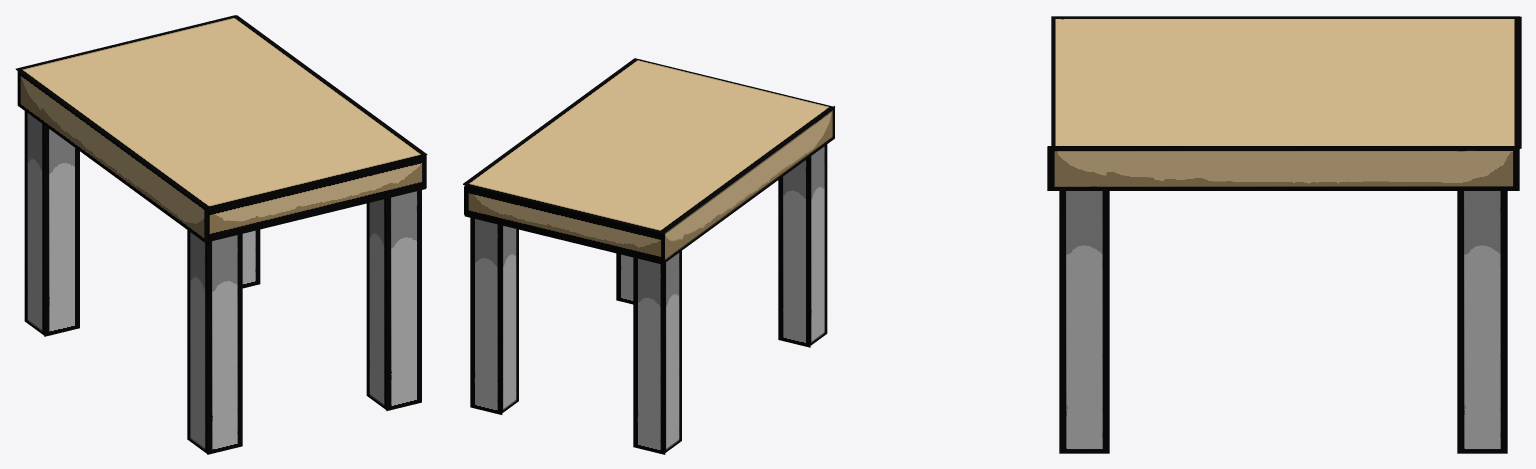
File: Student Table.gltf
3 views of the same model, side by side, from view 1: azimuth 30°, elevation 25°; view 2: azimuth 150°, elevation 25°; view 3: azimuth 270°, elevation 25° (orthographic). The views are drawn at different scales.
Parts seen in each view (by area): view 1: default; view 2: default; view 3: default.
Boxes of the visible parts, left/top/right/bottom form: default: left=15, top=15, right=427, bottom=454; default: left=463, top=58, right=834, bottom=454; default: left=1047, top=16, right=1521, bottom=453.
Bounding box in the file's own units: 27.94 × 33.88 × 57.06.
Materials: 2 (2 with a texture image).
